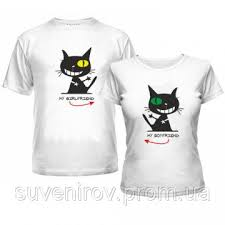cat: (54, 45, 97, 80), (141, 83, 185, 117)
